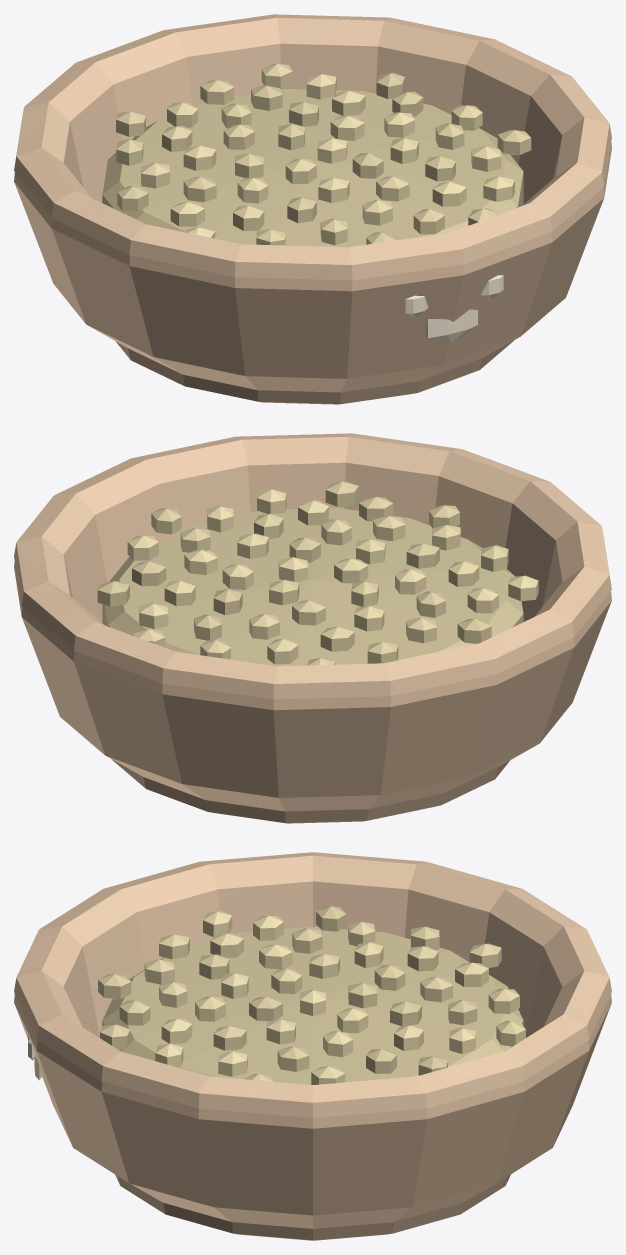
Rendered from crafted-coop-food-2.glb.
The picture shows the model from 3 angles, top to bottom: view 1: azimuth 30°, elevation 25°; view 2: azimuth 150°, elevation 25°; view 3: azimuth 270°, elevation 25°; orthographic projection.
Visible parts, largest first — view 1: ceramic-bowl, ration-volume, glazed-rim, foot-ring, paw-pad, ration-granule-24, ration-granule-30, ration-granule-36, ration-granule-42, ration-granule-5, ration-granule-11, ration-granule-17 (+35 smaller); view 2: ceramic-bowl, ration-volume, glazed-rim, foot-ring, ration-granule-20, ration-granule-26, ration-granule-1, ration-granule-7, ration-granule-14, ration-granule-45, ration-granule-13, ration-granule-38 (+35 smaller); view 3: ceramic-bowl, ration-volume, glazed-rim, foot-ring, ration-granule-40, ration-granule-9, ration-granule-16, ration-granule-3, ration-granule-28, ration-granule-15, ration-granule-22, ration-granule-21 (+36 smaller).
Boxes of the visible parts, x1,y1,x2,y2 form: ceramic-bowl: [14, 14, 611, 392]; ration-volume: [102, 89, 523, 247]; glazed-rim: [14, 14, 611, 280]; foot-ring: [116, 340, 514, 404]; paw-pad: [426, 309, 477, 343]; ration-granule-24: [432, 182, 466, 206]; ration-granule-30: [170, 202, 204, 226]; ration-granule-36: [200, 80, 234, 104]; ration-granule-42: [497, 130, 531, 154]; ration-granule-5: [330, 116, 364, 140]; ration-granule-11: [376, 176, 409, 201]; ration-granule-17: [183, 177, 216, 202]; ceramic-bowl: [14, 433, 611, 811]; ration-volume: [102, 508, 523, 666]; glazed-rim: [14, 433, 611, 699]; foot-ring: [111, 759, 509, 823]; ration-granule-20: [320, 626, 354, 651]; ration-granule-26: [132, 561, 166, 586]; ration-granule-1: [334, 558, 368, 583]; ration-granule-7: [292, 600, 325, 625]; ration-granule-14: [406, 543, 439, 568]; ration-granule-45: [325, 481, 358, 506]; ration-granule-13: [184, 550, 217, 574]; ration-granule-38: [457, 618, 491, 643]; ceramic-bowl: [14, 852, 611, 1228]; ration-volume: [102, 926, 523, 1084]; glazed-rim: [14, 852, 611, 1117]; foot-ring: [115, 1174, 510, 1240]; ration-granule-40: [98, 974, 131, 999]; ration-granule-9: [259, 944, 292, 969]; ration-granule-16: [213, 1026, 246, 1050]; ration-granule-3: [249, 996, 282, 1021]; ration-granule-28: [455, 962, 488, 986]; ration-granule-15: [420, 977, 452, 1002]; ration-granule-22: [210, 933, 243, 957]; ration-granule-21: [277, 1046, 309, 1071].
Bounding box in the file's own units: 0.76 × 0.265 × 0.76.
